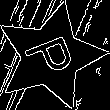P_E: (19, 30, 82, 83)
